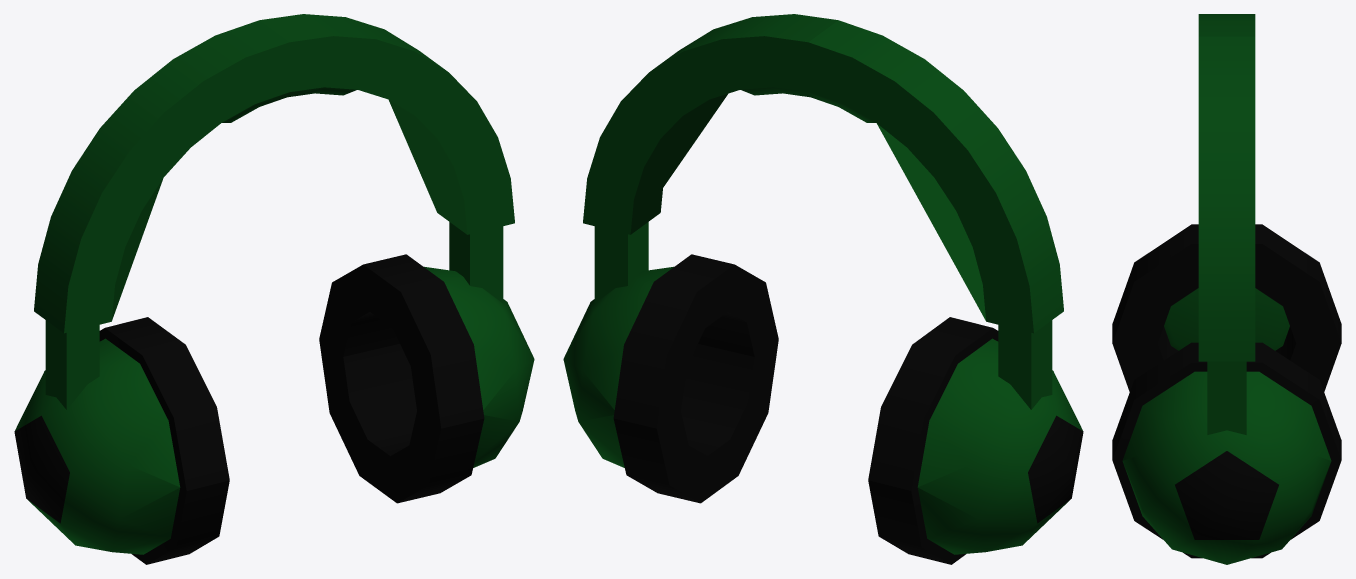
The model's file is headphones_green.fbx.
3 renders of one model, left to right at view 1: azimuth 30°, elevation 25°; view 2: azimuth 150°, elevation 25°; view 3: azimuth 270°, elevation 25°, orthographic. The views are drawn at different scales.
Visible parts, largest first — view 1: headphones_green; view 2: headphones_green; view 3: headphones_green.
Part boxes in pixels (x1=…): headphones_green: x1=14, y1=14, x2=534, y2=564; headphones_green: x1=563, y1=14, x2=1083, y2=564; headphones_green: x1=1112, y1=14, x2=1341, y2=564.
Bounding box in the file's own units: 57.11 × 53.62 × 24.52.
